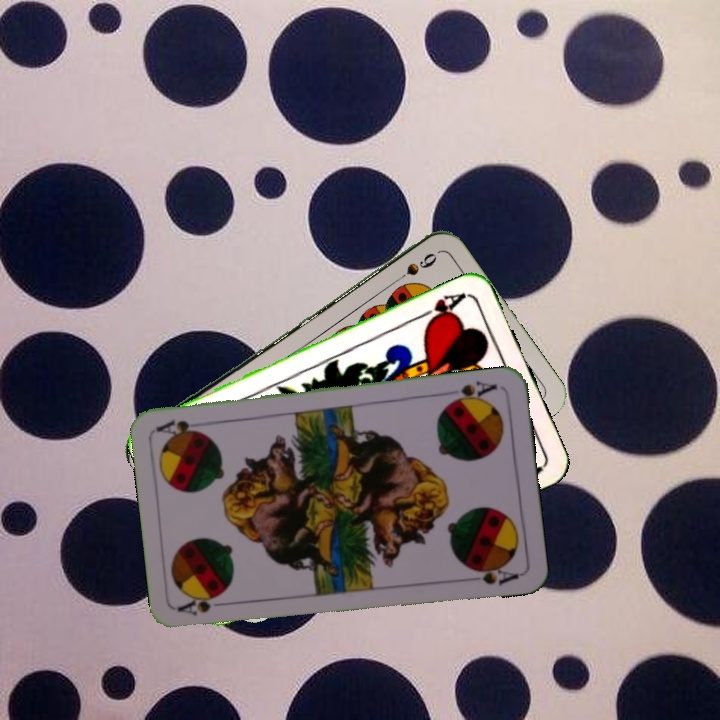HA: (414, 288, 470, 328)
S9: (387, 249, 439, 288)
SA: (443, 376, 500, 407), (174, 592, 234, 619)
